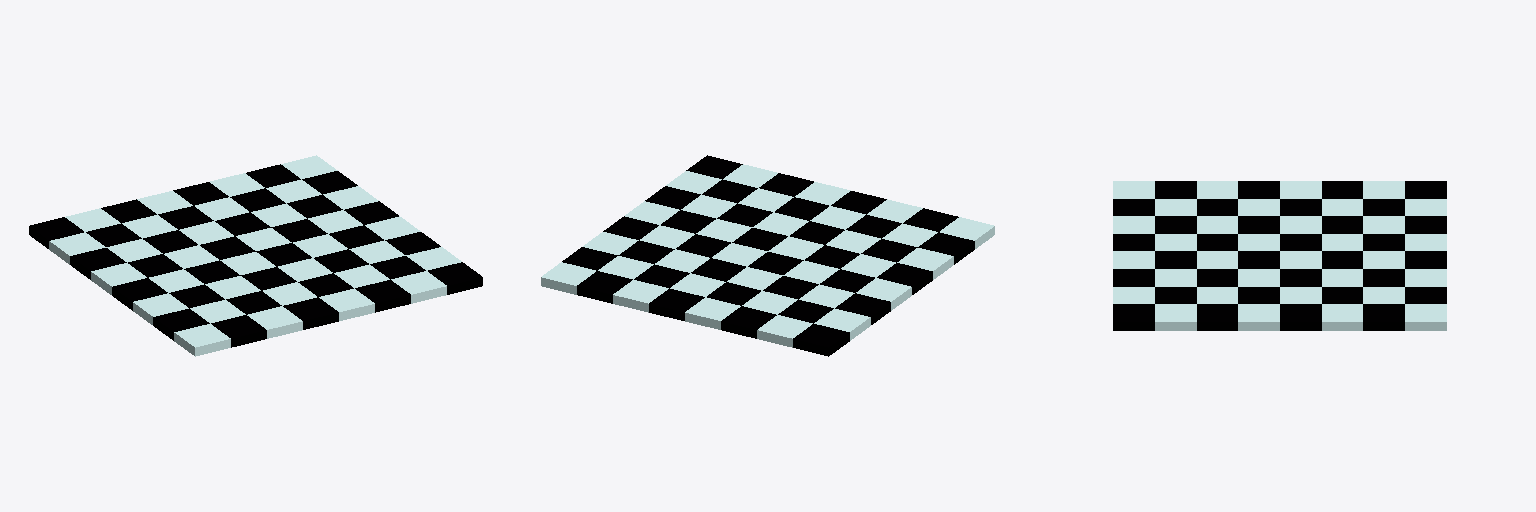
Rendered from ChessBoardSquares.obj.
The picture shows the model from 3 angles: view 1: azimuth 30°, elevation 25°; view 2: azimuth 150°, elevation 25°; view 3: azimuth 270°, elevation 25°; orthographic projection.
Parts seen in each view (by area): view 1: Board.003_Square_Grid.003; view 2: Board.003_Square_Grid.003; view 3: Board.003_Square_Grid.003.
Part boxes in pixels (bbox=[...]): Board.003_Square_Grid.003: bbox=[29, 155, 482, 356]; Board.003_Square_Grid.003: bbox=[541, 155, 994, 356]; Board.003_Square_Grid.003: bbox=[1113, 181, 1446, 330].
Size of the model in its own units: 4.8 by 0.1433 by 4.8.